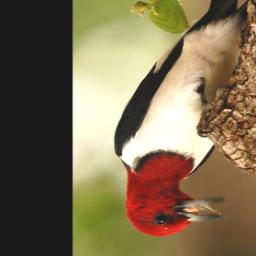Woodpecker: (113, 0, 249, 237)
